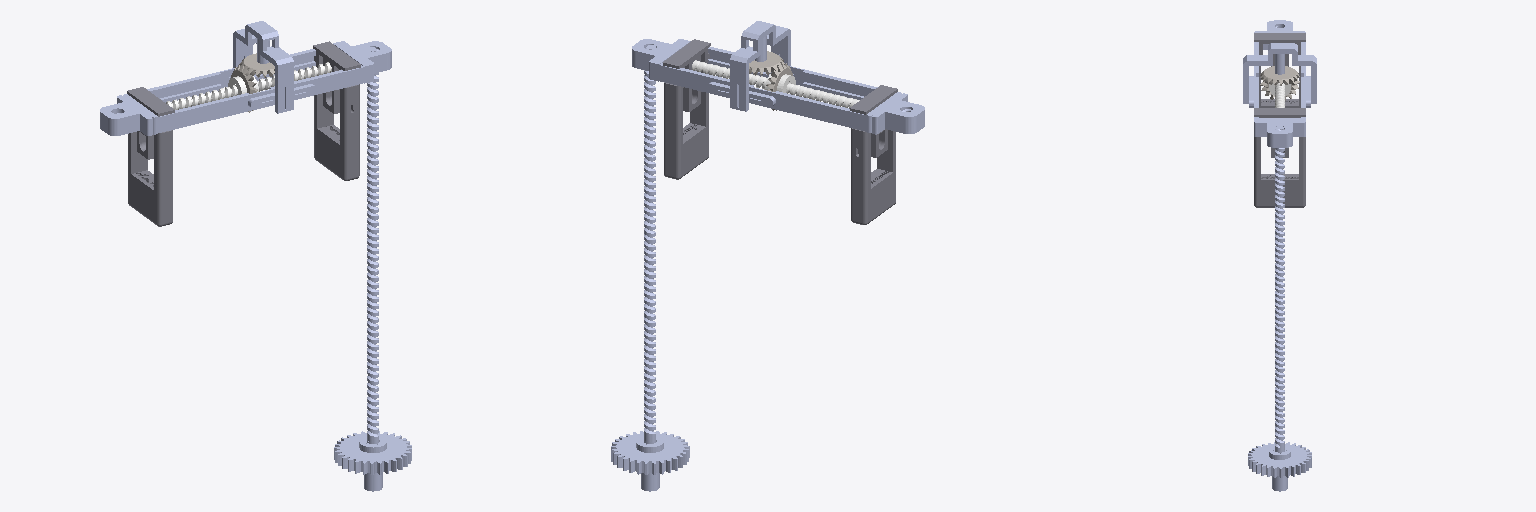
The robot description file, URDF, robot "solidworks2ros_try36":
<?xml version="1.0" encoding="utf-8"?>
<!-- This URDF was automatically created by SolidWorks to URDF Exporter! Originally created by [author] ([email redacted]) 
     Commit Version: 1.6.0-4-g7f85cfe  Build Version: 1.6.7995.38578
     For more information, please see http://wiki.ros.org/sw_urdf_exporter -->
<robot
  name="solidworks2ros_try36">

  <link name = "dummy">
  </link>

  <joint name="dummy_joint" type="fixed">
    <parent link="dummy"/>
    <child link="base_link"/>
  </joint>

  <link name="base_link">
    <inertial>
      <origin
        xyz="0.27421 -0.14456 0.35358"
        rpy="0 0 0" />
      <mass
        value="3338.7" />
      <inertia
        ixx="1620.8"
        ixy="5.8895E-06"
        ixz="0.005018"
        iyy="13518"
        iyz="-16.336"
        izz="14637" />
    </inertial>
    <visual>
      <origin
        xyz="0 0 0"
        rpy="0 0 0" />
      <geometry>
        <mesh
          filename="package://solidworks2ros_try36/meshes/base_link.STL" />
      </geometry>
      <material
        name="">
        <color
          rgba="0.79216 0.81961 0.93333 1" />
      </material>
    </visual>
    <collision>
      <origin
        xyz="0 0 0"
        rpy="0 0 0" />
      <geometry>
        <mesh
          filename="package://solidworks2ros_try36/meshes/base_link.STL" />
      </geometry>
    </collision>
  </link>

  <link
    name="link1">
    <inertial>
      <origin
        xyz="-0.0028443 0.0029656 1.6945"
        rpy="0 0 0" />
      <mass
        value="823.32" />
      <inertia
        ixx="2630.9"
        ixy="0.034568"
        ixz="-0.0063149"
        iyy="2630.9"
        iyz="0.23572"
        izz="118.2" />
    </inertial>
    <visual>
      <origin
        xyz="0 0 0"
        rpy="0 0 0" />
      <geometry>
        <mesh
          filename="package://solidworks2ros_try36/meshes/link1.STL" />
      </geometry>
      <material
        name="">
        <color
          rgba="0.79216 0.81961 0.93333 1" />
      </material>
    </visual>
    <collision>
      <origin
        xyz="0 0 0"
        rpy="0 0 0" />
      <geometry>
        <mesh
          filename="package://solidworks2ros_try36/meshes/link1.STL" />
      </geometry>
    </collision>
  </link>
  
  <joint
    name="joint1"
    type="continuous">
    <origin
      xyz="2.9619 -0.0029702 0.85629"
      rpy="0 0 0" />
    <parent
      link="base_link" />
    <child
      link="link1" />
    <axis
      xyz="0 0 -1" />
    <limit
      effort="100"
      velocity="2" />
  </joint>

  <link name="link2">
    <inertial>
      <origin
        xyz="0.0039258 0.0012118 -0.059794"
        rpy="0 0 0" />
      <mass
        value="479.53" />
      <inertia
        ixx="62.098"
        ixy="2.1851E-14"
        ixz="-1.9085E-13"
        iyy="62.098"
        iyz="-4.9674E-14"
        izz="114.95" />
    </inertial>
    <visual>
      <origin
        xyz="0 0 0"
        rpy="0 0 0" />
      <geometry>
        <mesh
          filename="package://solidworks2ros_try36/meshes/link2.STL" />
      </geometry>
      <material
        name="">
        <color
          rgba="0.79216 0.81961 0.93333 1" />
      </material>
    </visual>
    <collision>
      <origin
        xyz="0 0 0"
        rpy="0 0 0" />
      <geometry>
        <mesh
          filename="package://solidworks2ros_try36/meshes/link2.STL" />
      </geometry>
    </collision>
  </link>
  
  <joint name="joint2"
    type="continuous">
    <origin
      xyz="1.4756 -0.0012118 0.85629"
      rpy="0 0 0" />
    <parent
      link="base_link" />
    <child
      link="link2" />
    <axis
      xyz="0 0 -1" />
    <limit
      effort="100"
      velocity="2" />
  </joint>
  
  <link
    name="link3">
    <inertial>
      <origin
        xyz="-0.0028446 0.0029646 -0.059794"
        rpy="0 0 0" />
      <mass
        value="479.53" />
      <inertia
        ixx="62.098"
        ixy="-2.0492E-14"
        ixz="1.748E-13"
        iyy="62.098"
        iyz="1.8841E-14"
        izz="114.95" />
    </inertial>
    <visual>
      <origin
        xyz="0 0 0"
        rpy="0 0 0" />
      <geometry>
        <mesh
          filename="package://solidworks2ros_try36/meshes/link3.STL" />
      </geometry>
      <material
        name="">
        <color
          rgba="0.79216 0.81961 0.93333 1" />
      </material>
    </visual>
    <collision>
      <origin
        xyz="0 0 0"
        rpy="0 0 0" />
      <geometry>
        <mesh
          filename="package://solidworks2ros_try36/meshes/link3.STL" />
      </geometry>
    </collision>
  </link>
  <joint
    name="joint3"
    type="continuous">
    <origin
      xyz="0.0028446 -0.0029646 0.85629"
      rpy="0 0 0" />
    <parent
      link="base_link" />
    <child
      link="link3" />
    <axis
      xyz="0 0 -1" />
    <limit
      effort="100"
      velocity="2" />
  </joint>
  <link
    name="link4">
    <inertial>
      <origin
        xyz="0.0039363 0.0011773 -0.059794"
        rpy="0 0 0" />
      <mass
        value="479.53" />
      <inertia
        ixx="62.098"
        ixy="3.0743E-14"
        ixz="-3.4524E-14"
        iyy="62.098"
        iyz="-2.8969E-14"
        izz="114.95" />
    </inertial>
    <visual>
      <origin
        xyz="0 0 0"
        rpy="0 0 0" />
      <geometry>
        <mesh
          filename="package://solidworks2ros_try36/meshes/link4.STL" />
      </geometry>
      <material
        name="">
        <color
          rgba="0.79216 0.81961 0.93333 1" />
      </material>
    </visual>
    <collision>
      <origin
        xyz="0 0 0"
        rpy="0 0 0" />
      <geometry>
        <mesh
          filename="package://solidworks2ros_try36/meshes/link4.STL" />
      </geometry>
    </collision>
  </link>
  <joint
    name="joint4"
    type="continuous">
    <origin
      xyz="-1.4835 -0.0011773 0.85629"
      rpy="0 0 0" />
    <parent
      link="base_link" />
    <child
      link="link4" />
    <axis
      xyz="0 0 -1" />
    <limit
      effort="100"
      velocity="2" />
  </joint>
  <link
    name="link5">
    <inertial>
      <origin
        xyz="-0.0040861 0.00049413 1.6945"
        rpy="0 0 0" />
      <mass
        value="823.32" />
      <inertia
        ixx="2630.9"
        ixy="0.0059088"
        ixz="0.17812"
        iyy="2630.8"
        iyz="0.15453"
        izz="118.2" />
    </inertial>
    <visual>
      <origin
        xyz="0 0 0"
        rpy="0 0 0" />
      <geometry>
        <mesh
          filename="package://solidworks2ros_try36/meshes/link5.STL" />
      </geometry>
      <material
        name="">
        <color
          rgba="0.79216 0.81961 0.93333 1" />
      </material>
    </visual>
    <collision>
      <origin
        xyz="0 0 0"
        rpy="0 0 0" />
      <geometry>
        <mesh
          filename="package://solidworks2ros_try36/meshes/link5.STL" />
      </geometry>
    </collision>
  </link>
  <joint
    name="joint5"
    type="continuous">
    <origin
      xyz="-2.955 -0.00049273 0.85629"
      rpy="0 0 0" />
    <parent
      link="base_link" />
    <child
      link="link5" />
    <axis
      xyz="0 0 -1" />
    <limit
      effort="100"
      velocity="2" />
  </joint>
  <link
    name="link6">
    <inertial>
      <origin
        xyz="-0.29136 0.0012221 -0.36273"
        rpy="0 0 0" />
      <mass
        value="1056.6" />
      <inertia
        ixx="266.76"
        ixy="-1.8648E-06"
        ixz="1.3768E-13"
        iyy="884.97"
        iyz="-1.0553"
        izz="1059.3" />
    </inertial>
    <visual>
      <origin
        xyz="0 0 0"
        rpy="0 0 0" />
      <geometry>
        <mesh
          filename="package://solidworks2ros_try36/meshes/link6.STL" />
      </geometry>
      <material
        name="">
        <color
          rgba="0.79216 0.81961 0.93333 1" />
      </material>
    </visual>
    <collision>
      <origin
        xyz="0 0 0"
        rpy="0 0 0" />
      <geometry>
        <mesh
          filename="package://solidworks2ros_try36/meshes/link6.STL" />
      </geometry>
    </collision>
  </link>
  <joint
    name="joint6"
    type="prismatic">
    <origin
      xyz="0.41726 0 10.132"
      rpy="0 0 0" />
    <parent
      link="base_link" />
    <child
      link="link6" />
    <axis
      xyz="0 0 1" />
    <limit
      lower="-5"
      upper="2"
      effort="100"
      velocity="2" />
  </joint>
  <link
    name="link7">
    <inertial>
      <origin
        xyz="-0.96876 -0.00015639 -0.00040474"
        rpy="0 0 0" />
      <mass
        value="110.61" />
      <inertia
        ixx="1.7188"
        ixy="-0.036134"
        ixz="0.032169"
        iyy="65.104"
        iyz="0.0012089"
        izz="65.105" />
    </inertial>
    <visual>
      <origin
        xyz="0 0 0"
        rpy="0 0 0" />
      <geometry>
        <mesh
          filename="package://solidworks2ros_try36/meshes/link7.STL" />
      </geometry>
      <material
        name="">
        <color
          rgba="1 1 1 1" />
      </material>
    </visual>
    <collision>
      <origin
        xyz="0 0 0"
        rpy="0 0 0" />
      <geometry>
        <mesh
          filename="package://solidworks2ros_try36/meshes/link7.STL" />
      </geometry>
    </collision>
  </link>
  <joint
    name="joint7"
    type="continuous">
    <origin
      xyz="-0.4572 0 -0.508"
      rpy="0 0 0" />
    <parent
      link="link6" />
    <child
      link="link7" />
    <axis
      xyz="1 0 0" />
    <limit
      effort="100"
      velocity="2" />
  </joint>
  <link
    name="lilnk8">
    <inertial>
      <origin
        xyz="0.95535 -9.33E-06 0.00043383"
        rpy="0 0 0" />
      <mass
        value="110.61" />
      <inertia
        ixx="1.7188"
        ixy="0.044925"
        ixz="0.017952"
        iyy="65.103"
        iyz="-0.00056874"
        izz="65.106" />
    </inertial>
    <visual>
      <origin
        xyz="0 0 0"
        rpy="0 0 0" />
      <geometry>
        <mesh
          filename="package://solidworks2ros_try36/meshes/lilnk8.STL" />
      </geometry>
      <material
        name="">
        <color
          rgba="1 1 1 1" />
      </material>
    </visual>
    <collision>
      <origin
        xyz="0 0 0"
        rpy="0 0 0" />
      <geometry>
        <mesh
          filename="package://solidworks2ros_try36/meshes/lilnk8.STL" />
      </geometry>
    </collision>
  </link>
  <joint
    name="joint8"
    type="continuous">
    <origin
      xyz="-0.4572 0 -0.508"
      rpy="0 0 0" />
    <parent
      link="link6" />
    <child
      link="lilnk8" />
    <axis
      xyz="1 0 0" />
    <limit
      effort="100"
      velocity="2" />
  </joint>
  <link
    name="link9">
    <inertial>
      <origin
        xyz="0.00016455 -0.0013229 -0.40635"
        rpy="0 0 0" />
      <mass
        value="748.8" />
      <inertia
        ixx="599.5"
        ixy="0.013919"
        ixz="0.066567"
        iyy="492.8"
        iyz="0.43831"
        izz="124.43" />
    </inertial>
    <visual>
      <origin
        xyz="0 0 0"
        rpy="0 0 0" />
      <geometry>
        <mesh
          filename="package://solidworks2ros_try36/meshes/link9.STL" />
      </geometry>
      <material
        name="">
        <color
          rgba="0.58824 0.58824 0.63137 1" />
      </material>
    </visual>
    <collision>
      <origin
        xyz="0 0 0"
        rpy="0 0 0" />
      <geometry>
        <mesh
          filename="package://solidworks2ros_try36/meshes/link9.STL" />
      </geometry>
    </collision>
  </link>
  <joint
    name="joint9"
    type="prismatic">
    <origin
      xyz="-2.6144 0 -1.27"
      rpy="0 0 0" />
    <parent
      link="link6" />
    <child
      link="link9" />
    <axis
      xyz="1 0 0" />
    <limit
      lower="0"
      upper="0"
      effort="100"
      velocity="2" />
  </joint>
  <link
    name="link10">
    <inertial>
      <origin
        xyz="-0.00016455 0.0013229 -0.40635"
        rpy="0 0 0" />
      <mass
        value="748.8" />
      <inertia
        ixx="599.5"
        ixy="0.013919"
        ixz="-0.066567"
        iyy="492.8"
        iyz="-0.43831"
        izz="124.43" />
    </inertial>
    <visual>
      <origin
        xyz="0 0 0"
        rpy="0 0 0" />
      <geometry>
        <mesh
          filename="package://solidworks2ros_try36/meshes/link10.STL" />
      </geometry>
      <material
        name="">
        <color
          rgba="0.58824 0.58824 0.63137 1" />
      </material>
    </visual>
    <collision>
      <origin
        xyz="0 0 0"
        rpy="0 0 0" />
      <geometry>
        <mesh
          filename="package://solidworks2ros_try36/meshes/link10.STL" />
      </geometry>
    </collision>
  </link>
  <joint
    name="joint10"
    type="prismatic">
    <origin
      xyz="1.7 0 -1.27"
      rpy="0 0 0" />
    <parent
      link="link6" />
    <child
      link="link10" />
    <axis
      xyz="1 0 0" />
    <limit
      lower="0"
      upper="0"
      effort="100"
      velocity="2" />
  </joint>
  <link
    name="link11">
    <inertial>
      <origin
        xyz="2.5705E-11 7.4808E-11 -0.064749"
        rpy="0 0 0" />
      <mass
        value="70.221" />
      <inertia
        ixx="3.3885"
        ixy="5.3501E-08"
        ixz="1.0697E-10"
        iyy="3.3885"
        iyz="3.2471E-10"
        izz="6.5667" />
    </inertial>
    <visual>
      <origin
        xyz="0 0 0"
        rpy="0 0 0" />
      <geometry>
        <mesh
          filename="package://solidworks2ros_try36/meshes/link11.STL" />
      </geometry>
      <material
        name="">
        <color
          rgba="0.77647 0.75686 0.73725 1" />
      </material>
    </visual>
    <collision>
      <origin
        xyz="0 0 0"
        rpy="0 0 0" />
      <geometry>
        <mesh
          filename="package://solidworks2ros_try36/meshes/link11.STL" />
      </geometry>
    </collision>
  </link>
  <joint
    name="joint11"
    type="continuous">
    <origin
      xyz="0 0 0"
      rpy="0 0 0" />
    <parent
      link="link6" />
    <child
      link="link11" />
    <axis
      xyz="0 0 -1" />
    <limit
      effort="100"
      velocity="2" />
  </joint>
  <link
    name="link12">
    <inertial>
      <origin
        xyz="-0.0040775 3.9634E-05 -0.00057525"
        rpy="0 0 0" />
      <mass
        value="69.71" />
      <inertia
        ixx="7.0137"
        ixy="7.2533E-06"
        ixz="-0.00010526"
        iyy="3.6371"
        iyz="-0.00041872"
        izz="3.6431" />
    </inertial>
    <visual>
      <origin
        xyz="0 0 0"
        rpy="0 0 0" />
      <geometry>
        <mesh
          filename="package://solidworks2ros_try36/meshes/link12.STL" />
      </geometry>
      <material
        name="">
        <color
          rgba="0.77647 0.75686 0.73725 1" />
      </material>
    </visual>
    <collision>
      <origin
        xyz="0 0 0"
        rpy="0 0 0" />
      <geometry>
        <mesh
          filename="package://solidworks2ros_try36/meshes/link12.STL" />
      </geometry>
    </collision>
  </link>
  <joint
    name="joint12"
    type="continuous">
    <origin
      xyz="-0.4572 0 -0.508"
      rpy="0 0 0" />
    <parent
      link="link6" />
    <child
      link="link12" />
    <axis
      xyz="1 0 0" />
    <limit
      effort="100"
      velocity="2" />
  </joint>

  <transmission name="trans1">
    <type>transmission_interface/SimpleTransmission</type>
    <joint name="joint1">
      <hardwareInterface>hardware_interface/VelocityJointInterface</hardwareInterface>
    </joint>
    <actuator name="motor1">
      <hardwareInterface>hardware_interface/VelocityJointInterface</hardwareInterface>
      <mechanicalReduction>1</mechanicalReduction>
    </actuator>
  </transmission>

  <transmission name="trans2">
    <type>transmission_interface/SimpleTransmission</type>
    <joint name="joint2">
      <hardwareInterface>hardware_interface/VelocityJointInterface</hardwareInterface>
    </joint>
    <actuator name="motor2">
      <hardwareInterface>hardware_interface/VelocityJointInterface</hardwareInterface>
      <mechanicalReduction>1</mechanicalReduction>
    </actuator>
  </transmission>

  <transmission name="trans3">
    <type>transmission_interface/SimpleTransmission</type>
    <joint name="joint3">
      <hardwareInterface>hardware_interface/VelocityJointInterface</hardwareInterface>
    </joint>
    <actuator name="motor3">
      <hardwareInterface>hardware_interface/VelocityJointInterface</hardwareInterface>
      <mechanicalReduction>1</mechanicalReduction>
    </actuator>
  </transmission>

  <transmission name="trans4">
    <type>transmission_interface/SimpleTransmission</type>
    <joint name="joint4">
      <hardwareInterface>hardware_interface/VelocityJointInterface</hardwareInterface>
    </joint>
    <actuator name="motor4">
      <hardwareInterface>hardware_interface/VelocityJointInterface</hardwareInterface>
      <mechanicalReduction>1</mechanicalReduction>
    </actuator>
  </transmission>

  <transmission name="trans5">
    <type>transmission_interface/SimpleTransmission</type>
    <joint name="joint5">
      <hardwareInterface>hardware_interface/VelocityJointInterface</hardwareInterface>
    </joint>
    <actuator name="motor5">
      <hardwareInterface>hardware_interface/VelocityJointInterface</hardwareInterface>
      <mechanicalReduction>1</mechanicalReduction>
    </actuator>
  </transmission>

  <transmission name="trans6">
    <type>transmission_interface/SimpleTransmission</type>
    <joint name="joint6">
      <hardwareInterface>hardware_interface/VelocityJointInterface</hardwareInterface>
    </joint>
    <actuator name="motor6">
      <hardwareInterface>hardware_interface/VelocityJointInterface</hardwareInterface>
      <mechanicalReduction>1</mechanicalReduction>
    </actuator>
  </transmission>

  <!-- <gazebo reference="link1">
    <gravity>false</gravity>
  </gazebo>

  <gazebo reference="link2">
    <gravity>false</gravity>
  </gazebo>

  <gazebo reference="link3">
    <gravity>false</gravity>
  </gazebo>

  <gazebo reference="link4">
    <gravity>false</gravity>
  </gazebo>

  <gazebo reference="link5">
    <gravity>false</gravity>
  </gazebo> -->
  
  <gazebo reference="link6">
    <gravity>false</gravity>
  </gazebo>

  <gazebo reference="link7">
    <gravity>false</gravity>
  </gazebo>

  <gazebo reference="lilnk8">
    <gravity>false</gravity>
  </gazebo>

  <gazebo reference="link9">
    <gravity>false</gravity>
  </gazebo>

  <gazebo reference="link10">
    <gravity>false</gravity>
  </gazebo>

  <gazebo reference="link11">
    <gravity>false</gravity>
  </gazebo>

  <gazebo reference="link12">
    <gravity>false</gravity>
  </gazebo>

  
  <!-- Gazebo controller -->
  <gazebo>
      <plugin name="ros_control" filename="libgazebo_ros_control.so"/>
  </gazebo>


</robot>

--- Render facts (derived) ---
3 views of the same robot in one strip: view 1: azimuth 30°, elevation 25°; view 2: azimuth 150°, elevation 25°; view 3: azimuth 270°, elevation 25° (orthographic).
Model solidworks2ros_try36 with 14 links and 13 joints (9 continuous, 3 prismatic, 1 fixed), rooted at dummy, posed every joint at zero.
Visible links, largest first — view 1: link6, link1, link10, link9, link7, lilnk8; view 2: link6, link1, link10, link9, link7, lilnk8; view 3: link1, link6, link10, link9.
Boxes of the visible links, bbox=[...] form: link6: bbox=[100, 21, 391, 135]; link1: bbox=[334, 47, 411, 491]; link10: bbox=[313, 41, 360, 180]; link9: bbox=[127, 87, 174, 226]; link7: bbox=[166, 76, 246, 109]; lilnk8: bbox=[252, 62, 331, 92]; link6: bbox=[632, 21, 924, 134]; link1: bbox=[611, 45, 689, 491]; link10: bbox=[663, 39, 710, 179]; link9: bbox=[850, 85, 897, 224]; link7: bbox=[777, 74, 859, 108]; lilnk8: bbox=[692, 60, 771, 89]; link1: bbox=[1248, 126, 1311, 491]; link6: bbox=[1243, 20, 1316, 147]; link10: bbox=[1254, 108, 1305, 207]; link9: bbox=[1254, 33, 1305, 107].
Bounding box of the posed robot: 7.02 × 1.79 × 10.75 m (x, y, z).
8 mesh visuals loaded from 13 distinct referenced files (8 binary STL); not drawn: 5 (reference not matched to a file when rendering).
